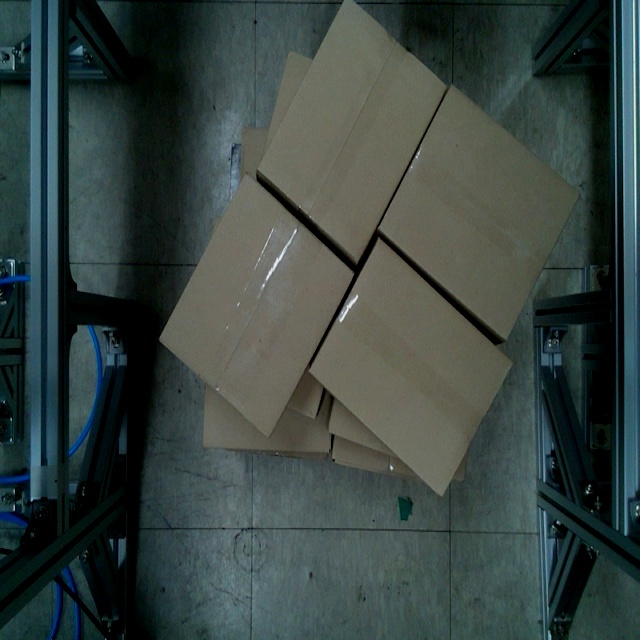box: (155, 168, 356, 444), (380, 83, 583, 349), (310, 237, 513, 503), (256, 0, 447, 271)
